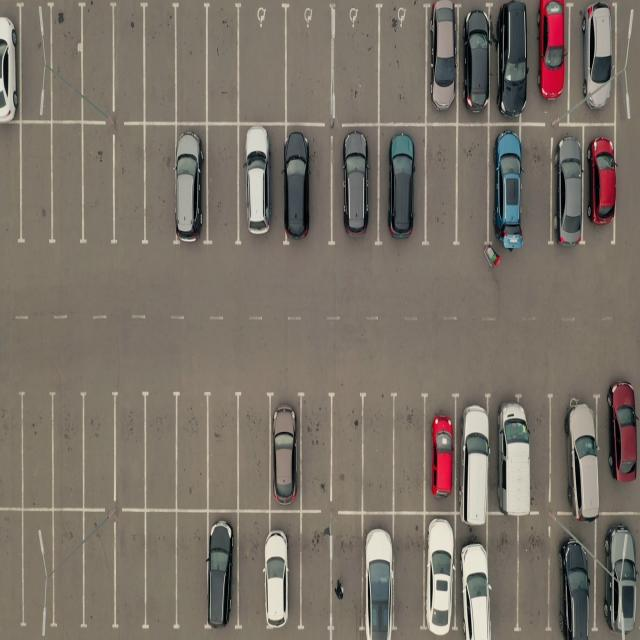space-empty: (375, 5, 425, 125), (238, 5, 288, 123), (286, 7, 336, 124), (332, 6, 380, 124), (45, 512, 87, 630), (517, 515, 556, 631), (141, 4, 179, 123), (204, 5, 242, 124), (47, 4, 85, 122), (78, 391, 116, 508), (51, 127, 88, 247), (15, 126, 52, 246), (142, 393, 180, 509), (16, 396, 54, 512), (175, 4, 212, 123), (176, 394, 214, 509), (112, 396, 150, 511), (205, 125, 242, 243), (78, 512, 115, 630), (77, 2, 114, 120), (111, 4, 148, 122), (17, 512, 54, 630), (328, 394, 366, 508), (78, 129, 115, 246), (49, 396, 86, 512), (142, 512, 178, 631), (392, 398, 429, 513), (457, 126, 492, 247), (331, 514, 366, 635), (237, 394, 274, 508), (358, 396, 395, 510), (112, 129, 148, 246), (205, 394, 241, 510), (115, 512, 150, 631), (141, 123, 176, 242), (296, 394, 332, 508), (235, 512, 269, 632), (176, 512, 210, 631), (423, 124, 457, 243), (296, 513, 330, 632), (394, 514, 427, 636), (486, 516, 519, 636), (15, 4, 49, 120), (523, 125, 554, 245), (0, 510, 24, 629), (0, 385, 23, 507), (0, 127, 22, 247)
space-occupied: (550, 392, 600, 512), (282, 128, 330, 247), (490, 395, 536, 517), (571, 0, 617, 121), (332, 129, 379, 246), (382, 125, 427, 244), (240, 124, 283, 245), (553, 521, 597, 636), (456, 392, 497, 513), (532, 0, 572, 119), (421, 512, 459, 637), (601, 519, 640, 636), (492, 1, 529, 122), (458, 518, 494, 638), (424, 6, 460, 124), (422, 394, 458, 512), (488, 126, 522, 248), (267, 392, 302, 508), (361, 514, 394, 637), (266, 512, 300, 631), (176, 128, 210, 246), (551, 127, 585, 243), (606, 387, 640, 500), (462, 8, 494, 124), (207, 512, 238, 631), (583, 127, 613, 237), (0, 4, 21, 124)
